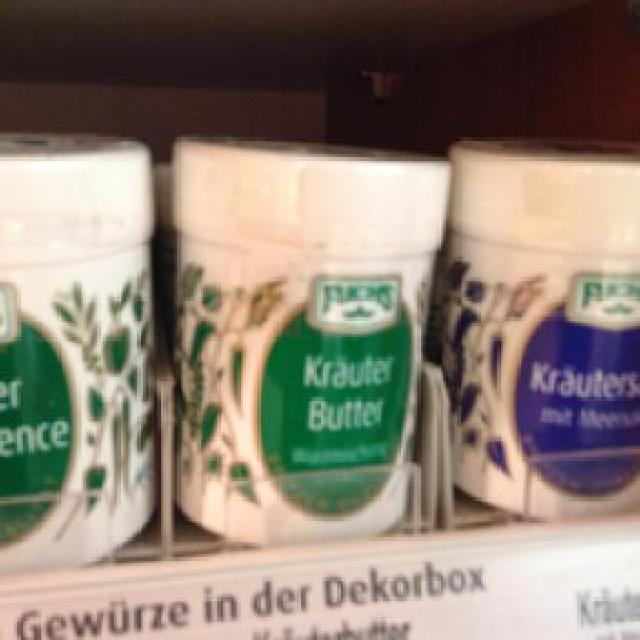Spices: (156, 127, 450, 544), (440, 128, 637, 506), (0, 127, 155, 572)
